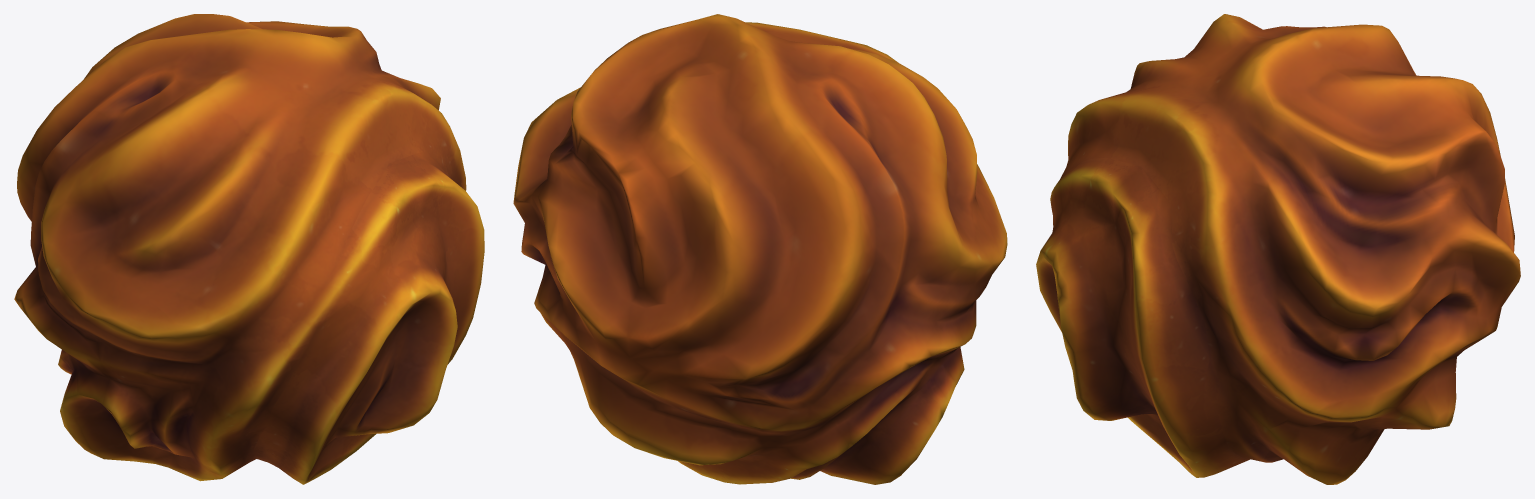
The model's file is Planet_Twisted.fbx.
The picture shows the model from 3 angles, left to right: view 1: azimuth 30°, elevation 25°; view 2: azimuth 150°, elevation 25°; view 3: azimuth 270°, elevation 25°; orthographic projection. The views are drawn at different scales.
Visible parts, largest first — view 1: Planet_Twisted; view 2: Planet_Twisted; view 3: Planet_Twisted.
Boxes of the visible parts, left/top/right/bottom form: Planet_Twisted: left=14, top=14, right=484, bottom=484; Planet_Twisted: left=513, top=14, right=1007, bottom=484; Planet_Twisted: left=1036, top=14, right=1520, bottom=484.
Size of the model in its own units: 242 by 234 by 238.
